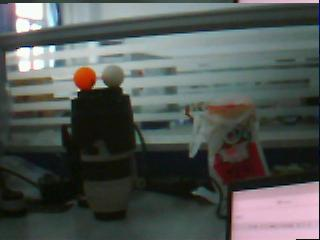oball: (73, 67, 96, 89)
